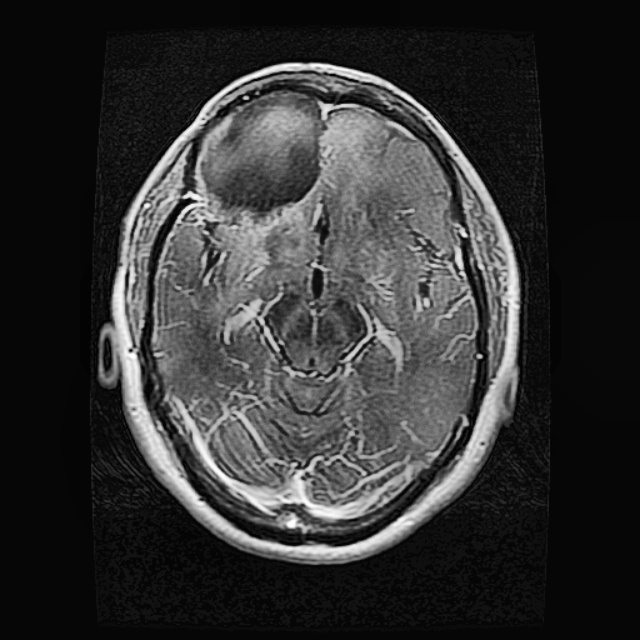Meningioma: (194, 90, 332, 227)
